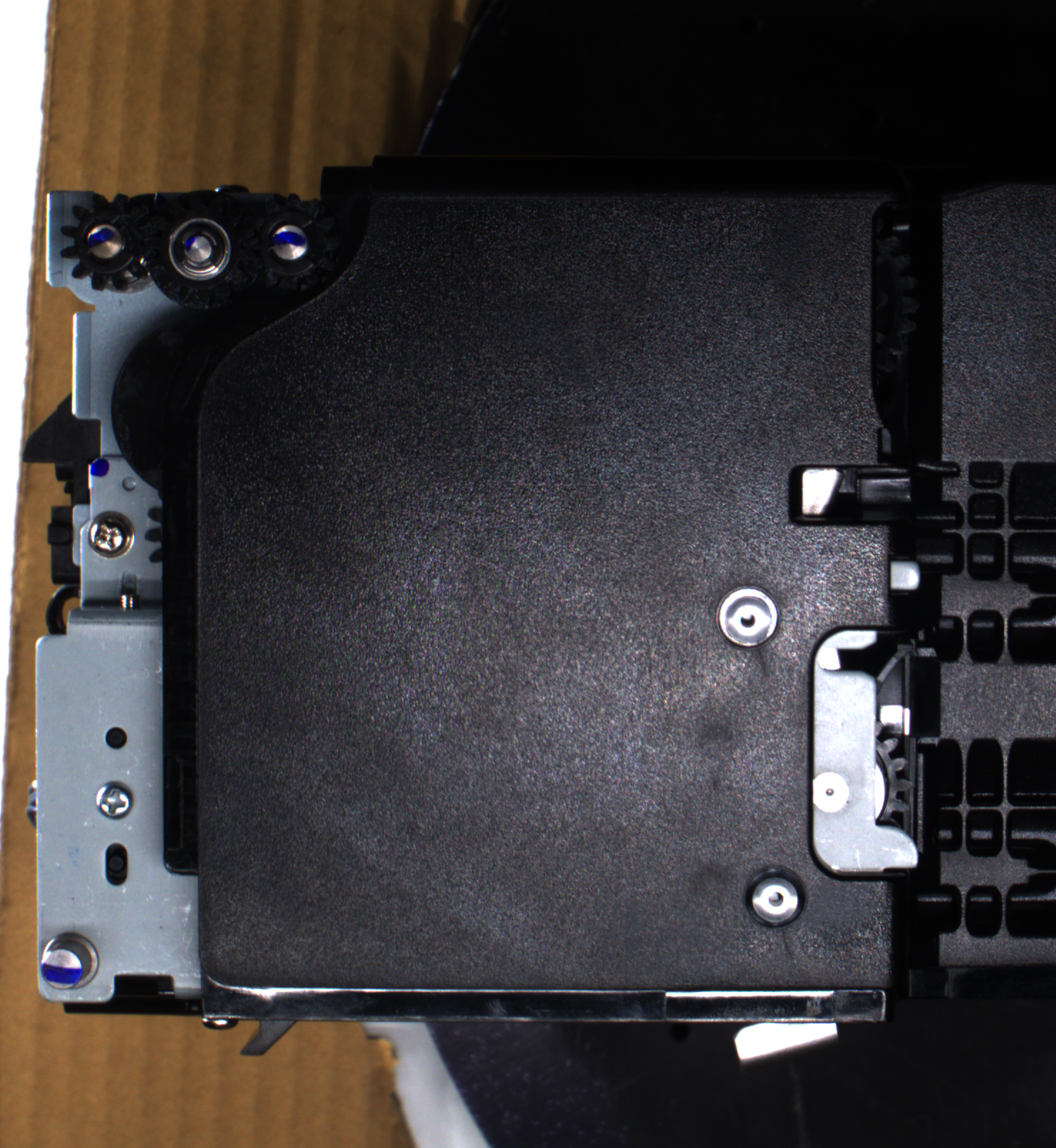centre_pin_presence: (725, 1007, 844, 1073)
centre_plate_presence: (801, 620, 930, 888)
centre_screw_presence: (738, 858, 811, 935), (712, 580, 784, 657)
gear1_presence: (59, 189, 160, 298)
gear2_presence: (144, 189, 256, 310)
gear3_presence: (239, 191, 338, 294)
side_screw_presence: (82, 509, 137, 560), (92, 779, 136, 822)
slanting_pin_presence: (34, 927, 107, 1002)
